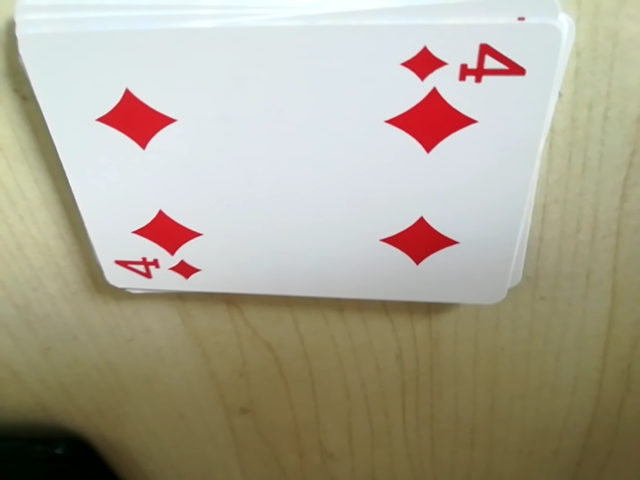fk 4: (395, 34, 530, 89), (107, 250, 205, 289)
